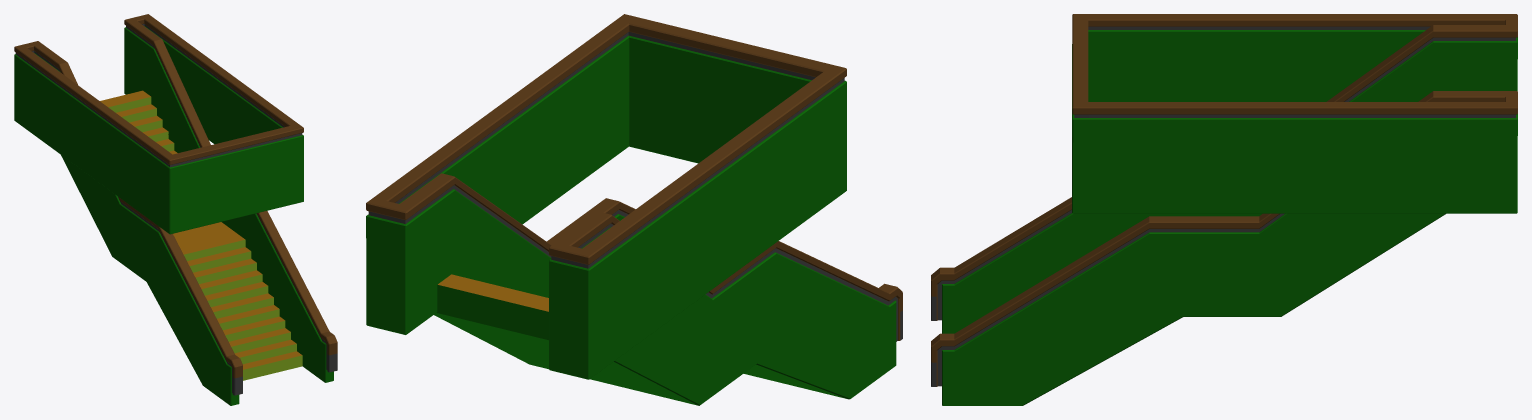
Rendered from escaleras.fbx.
3 views of the same model, side by side, from view 1: azimuth 30°, elevation 25°; view 2: azimuth 150°, elevation 25°; view 3: azimuth 270°, elevation 25° (orthographic). The views are drawn at different scales.
Parts seen in each view (by area): view 1: escaleras; view 2: escaleras; view 3: escaleras.
Part boxes in pixels (x1=…): escaleras: x1=14, y1=14, x2=337, y2=405; escaleras: x1=366, y1=14, x2=902, y2=405; escaleras: x1=931, y1=14, x2=1517, y2=405.
Size of the model in its own units: 303 by 465 by 800.
